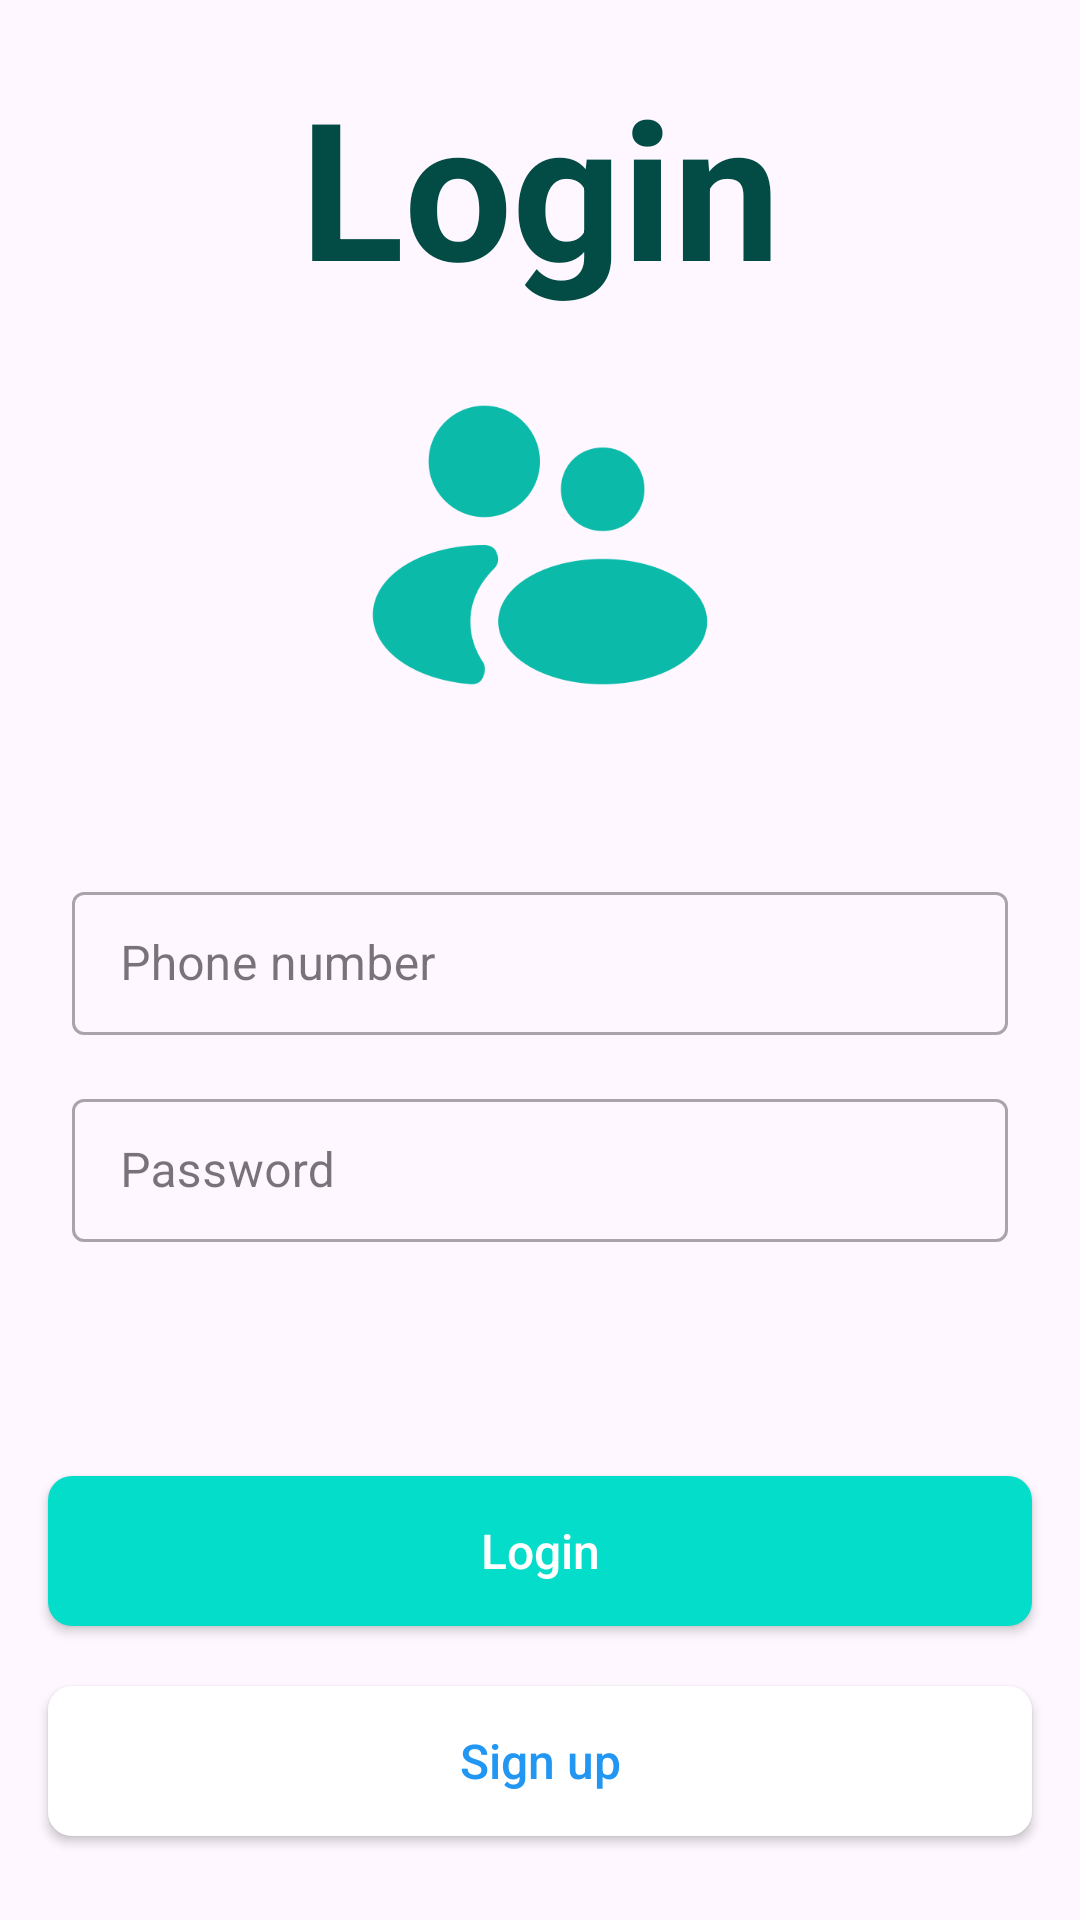

Screen size 1080w x 1920h. Icon name, then its center in pixels as (x,y):
contact: (540,545)
